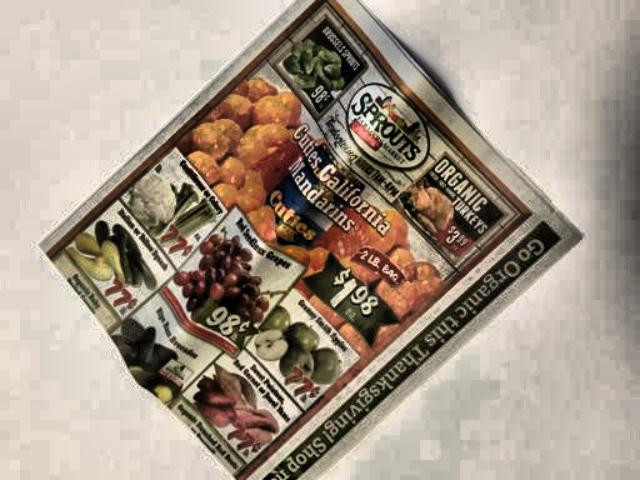Paper: (39, 0, 580, 480)
